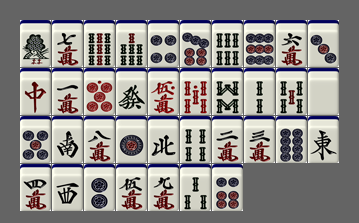0m: (148, 68, 179, 115)
0p: (84, 68, 115, 115)
0s: (180, 68, 211, 115)
1m: (52, 68, 83, 115)
1p: (116, 116, 147, 163)
1s: (20, 20, 51, 67)
1z: (308, 116, 339, 163)
2m: (212, 116, 243, 163)
2p: (84, 164, 115, 211)
2s: (244, 68, 275, 115)
2z: (52, 116, 83, 163)
3m: (244, 116, 275, 163)
3p: (308, 20, 339, 67)
3s: (180, 164, 211, 211)
3z: (52, 164, 83, 211)
4m: (20, 164, 51, 211)
4p: (148, 20, 179, 67)
4s: (180, 116, 211, 163)
4z: (148, 116, 179, 163)
5m: (116, 164, 147, 211)
5p: (20, 116, 51, 163)
5s: (276, 68, 307, 115)
5z: (308, 68, 339, 115)
6m: (276, 20, 307, 67)
6p: (212, 164, 243, 211)
6s: (212, 20, 243, 67)
6z: (116, 68, 147, 115)
7m: (52, 20, 83, 67)
7p: (180, 20, 211, 67)
7s: (116, 20, 147, 67)
7z: (20, 68, 51, 115)
8m: (84, 116, 115, 163)
8p: (276, 116, 307, 163)
8s: (212, 68, 243, 115)
9m: (148, 164, 179, 211)
9p: (244, 20, 275, 67)
9s: (84, 20, 115, 67)
